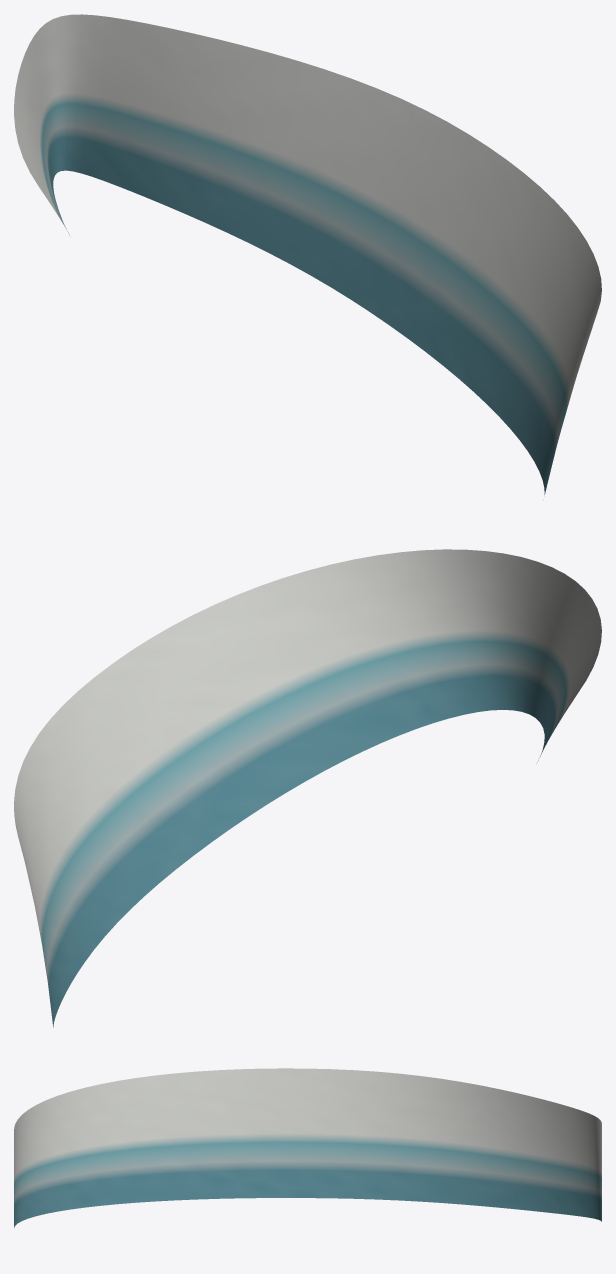
The model's file is boat_hull.glb.
3 views of the same model, one above another, from view 1: azimuth 30°, elevation 25°; view 2: azimuth 150°, elevation 25°; view 3: azimuth 270°, elevation 25° (orthographic). The views are drawn at different scales.
Visible parts, largest first — view 1: world; view 2: world; view 3: world.
Boxes of the visible parts, x1,y1,x2,y2 form: world: (14,14,601,494); world: (14,549,601,1027); world: (14,1068,601,1227).
Bounding box in the file's own units: 1.42 × 0.565 × 2.86.
